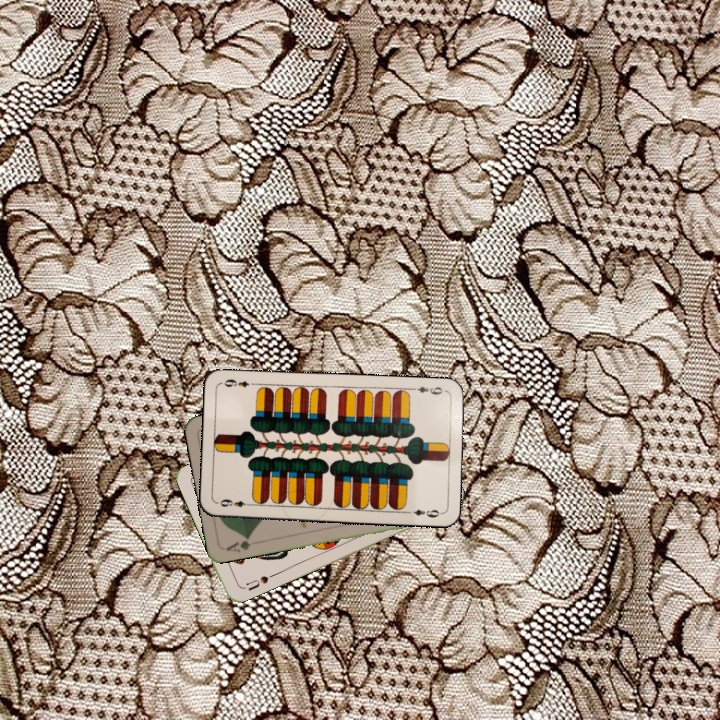E9: (408, 382, 448, 398), (214, 495, 255, 510)
GA: (222, 532, 262, 555)
SU: (238, 570, 277, 594)
